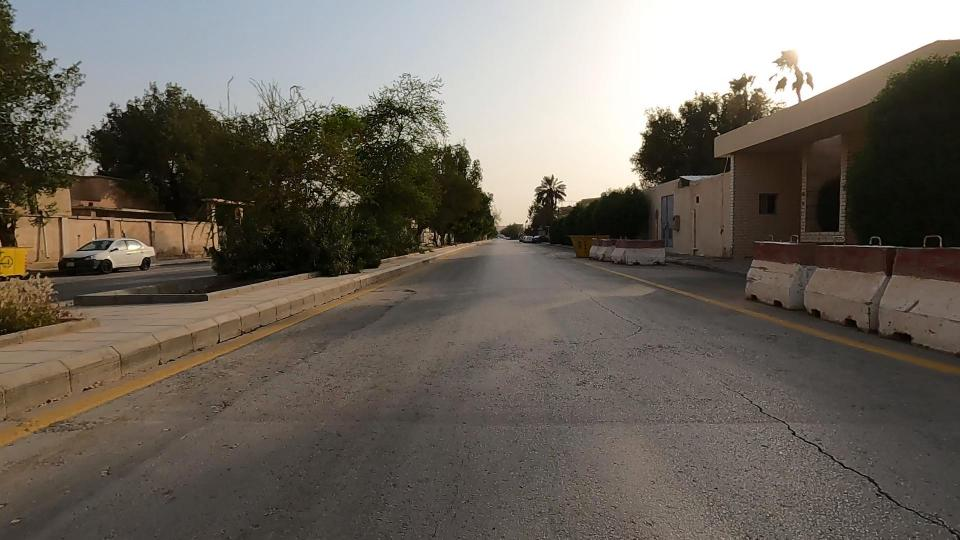GRAFFITI: (677, 328, 960, 540), (0, 372, 160, 507), (120, 343, 303, 456), (346, 251, 462, 352)
